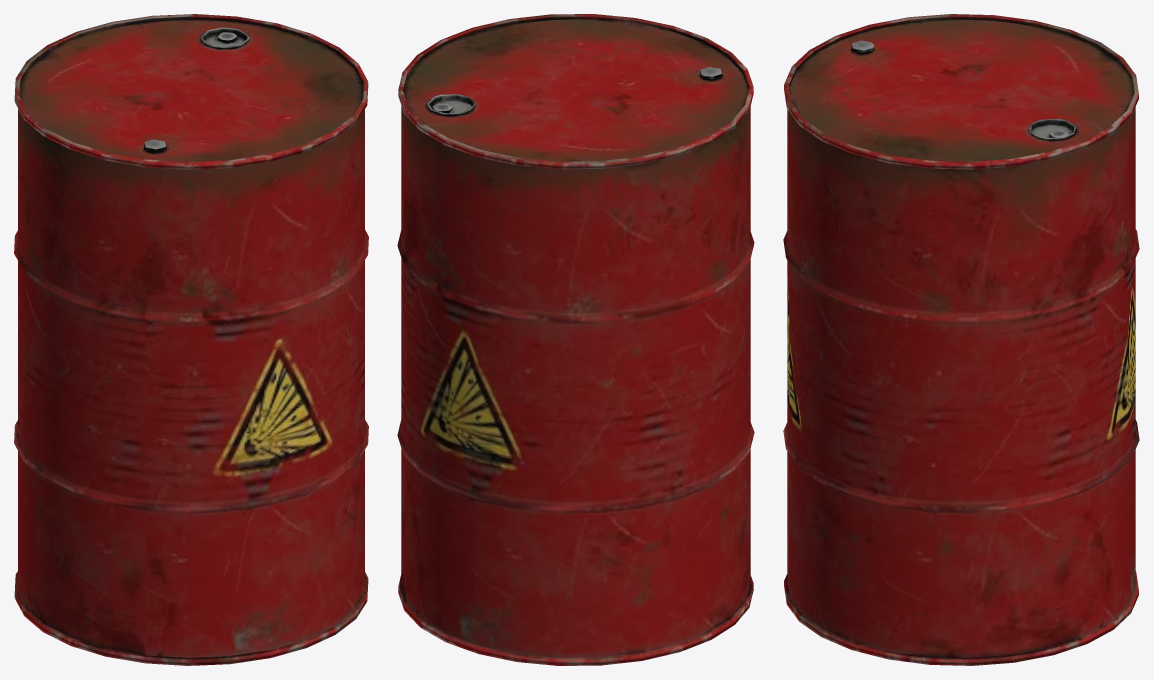
The model's file is barrel_01.glb.
3 views of the same model, side by side, from view 1: azimuth 30°, elevation 25°; view 2: azimuth 150°, elevation 25°; view 3: azimuth 270°, elevation 25° (orthographic).
Visible parts, largest first — view 1: Barrel_01; view 2: Barrel_01; view 3: Barrel_01.
Part boxes in pixels (left/top/right/bottom): Barrel_01: left=14, top=14, right=368, bottom=665; Barrel_01: left=397, top=14, right=754, bottom=665; Barrel_01: left=783, top=14, right=1139, bottom=665.
Size of the model in its own units: 0.5628 by 0.8789 by 0.5628.
1 material, 1 textured.
